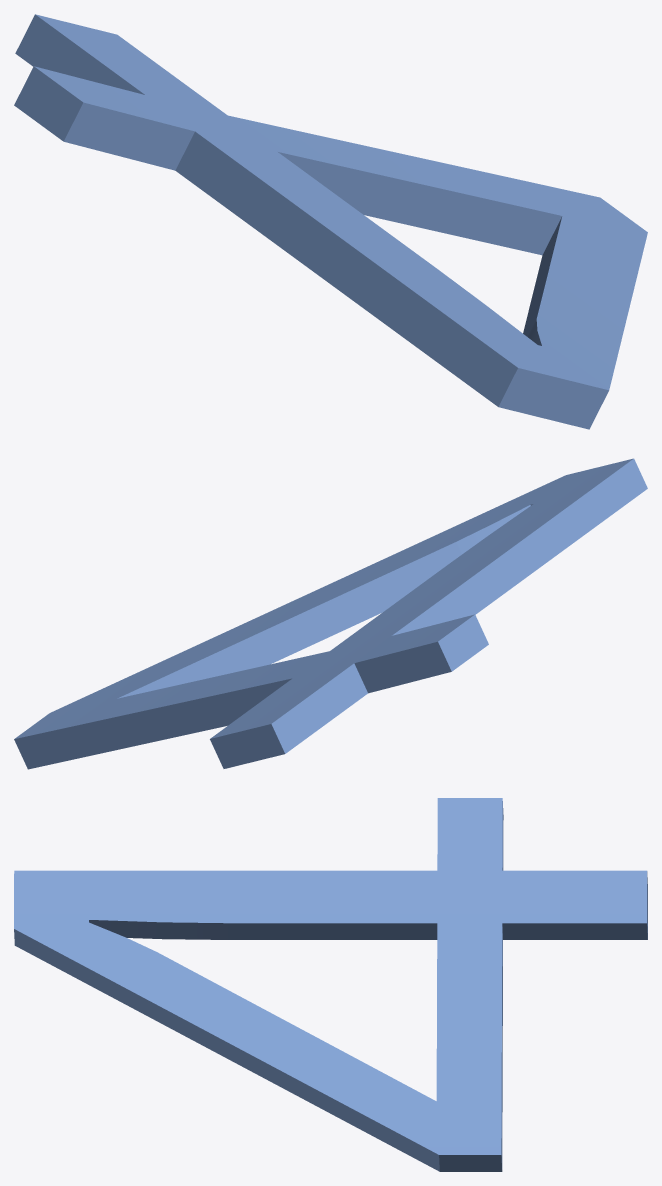
The model's file is New_Number_4.gltf.
3 renders of one model, top to bottom at view 1: azimuth 30°, elevation 25°; view 2: azimuth 150°, elevation 25°; view 3: azimuth 270°, elevation 25°, orthographic. The views are drawn at different scales.
Visible parts, largest first — view 1: Part 292; view 2: Part 292; view 3: Part 292.
Boxes of the visible parts, left/top/right/bottom form: Part 292: left=14, top=14, right=647, bottom=429; Part 292: left=14, top=458, right=647, bottom=769; Part 292: left=14, top=798, right=647, bottom=1171.
Size of the model in its own units: 0.00386 by 0.00192 by 0.00553.
